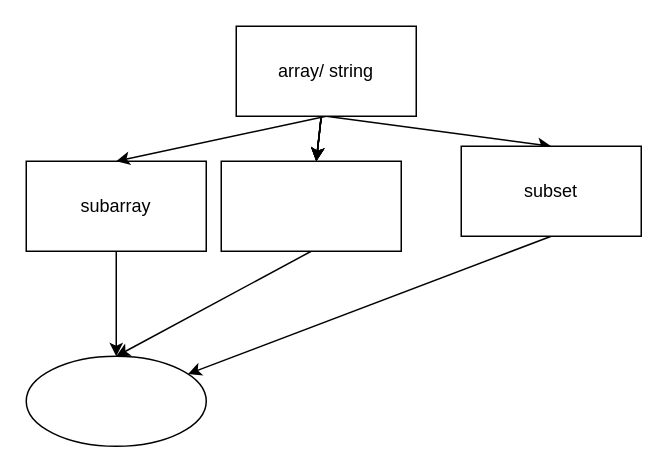
Image size: 668x473. Some labels were removed from this diagram. The centre of each missing label's shape, as x and y in pixels:
"can't sort" goes at pixel 115 400.
"subsequence" goes at pixel 310 205.
